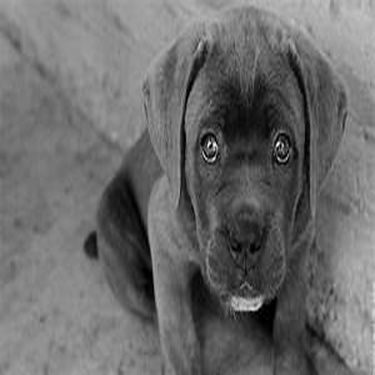dog: (65, 5, 356, 372)
